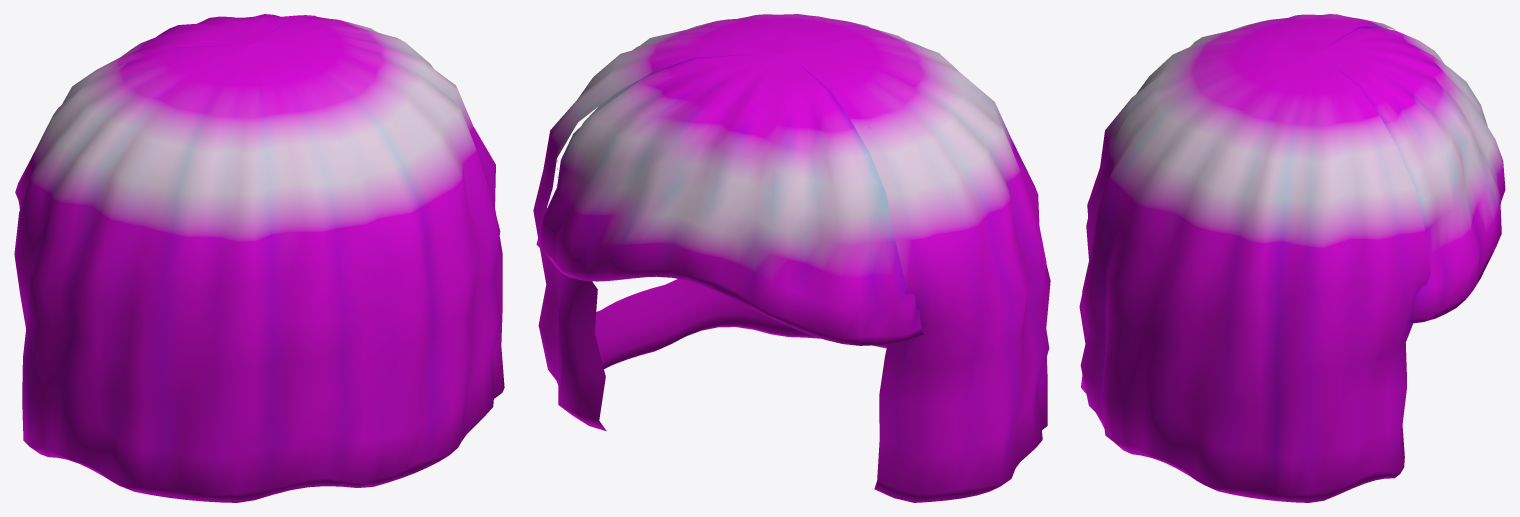
Rendered from curly_mid.glb.
The picture shows the model from 3 angles, left to right: view 1: azimuth 30°, elevation 25°; view 2: azimuth 150°, elevation 25°; view 3: azimuth 270°, elevation 25°; orthographic projection. The views are drawn at different scales.
Visible parts, largest first — view 1: curly; view 2: curly; view 3: curly.
Boxes of the visible parts, x1,y1,x2,y2 form: curly: (14, 14, 504, 502); curly: (533, 14, 1050, 502); curly: (1079, 14, 1505, 502).
Size of the model in its own units: 1.17 by 0.8988 by 0.9823.
